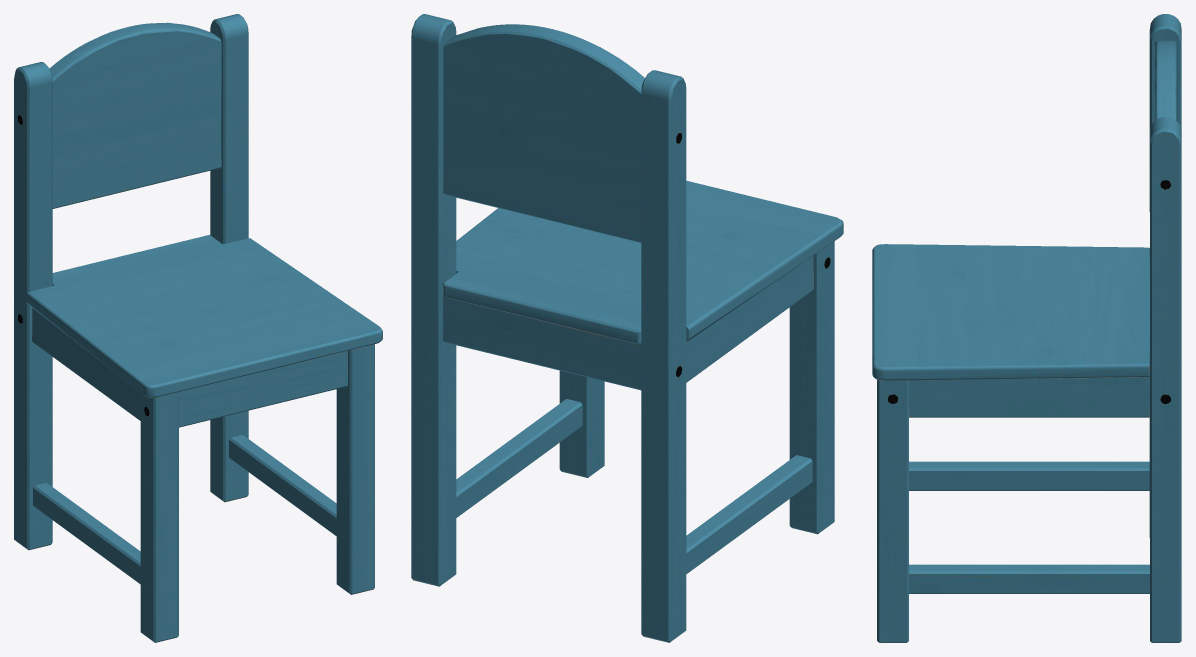
File: sundvik_krzeseko_dzieciece_70628314.glb
The picture shows the model from 3 angles, left to right: view 1: azimuth 30°, elevation 25°; view 2: azimuth 150°, elevation 25°; view 3: azimuth 270°, elevation 25°; orthographic projection. The views are drawn at different scales.
Parts seen in each view (by area): view 1: sundvik_krzeseko_dzieciece_70628314; view 2: sundvik_krzeseko_dzieciece_70628314; view 3: sundvik_krzeseko_dzieciece_70628314.
Part boxes in pixels (x1,y1,x2,y2): sundvik_krzeseko_dzieciece_70628314: (14, 14, 382, 642); sundvik_krzeseko_dzieciece_70628314: (411, 14, 843, 642); sundvik_krzeseko_dzieciece_70628314: (872, 14, 1181, 642).
Bounding box in the file's own units: 0.2794 × 0.5484 × 0.2915.
Materials: 1 (1 with a texture image).
